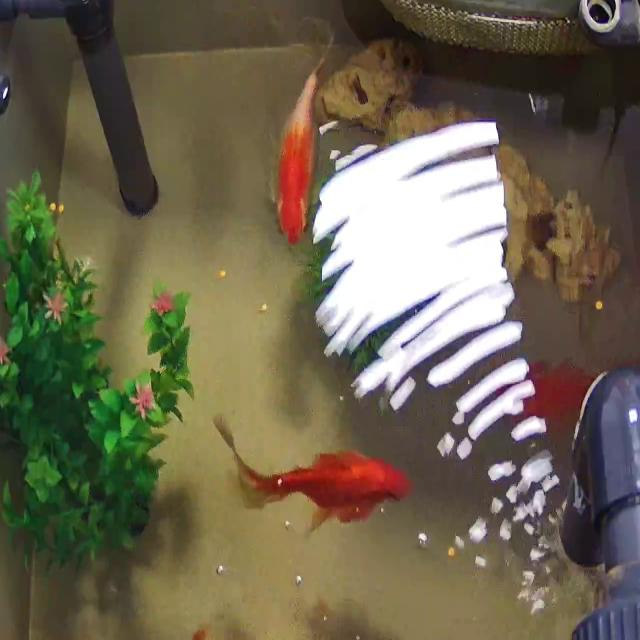fish: (210, 410, 427, 532), (276, 32, 328, 253), (140, 610, 335, 640)
